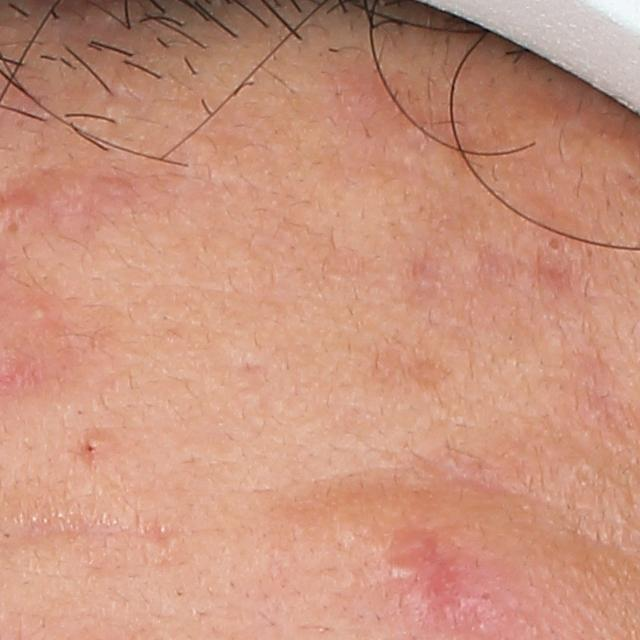comedo: (76, 433, 103, 461), (5, 215, 25, 237), (545, 236, 568, 253)
